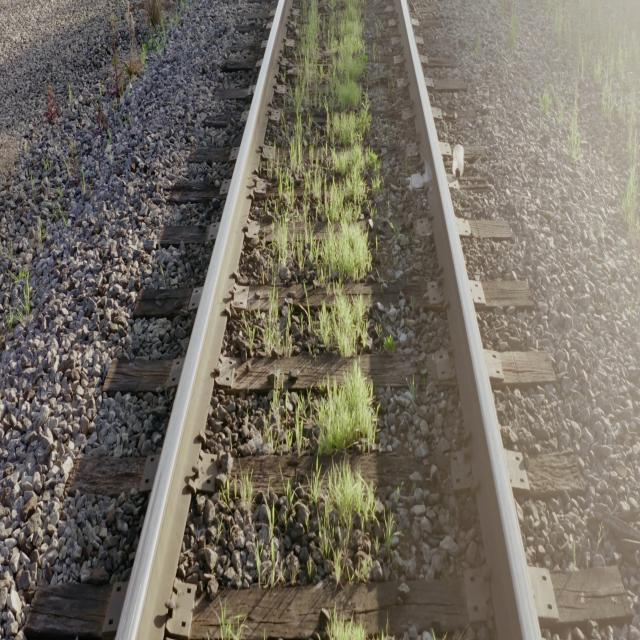Plant: (262, 0, 381, 358), (260, 362, 378, 453), (319, 462, 375, 582), (252, 491, 279, 584), (326, 607, 366, 640), (320, 611, 366, 638), (239, 473, 254, 518), (220, 609, 241, 638)
